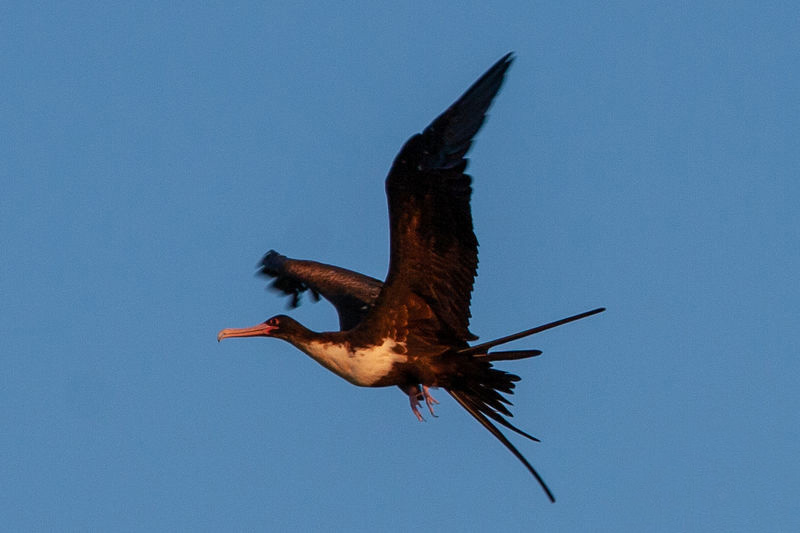bird: (211, 50, 609, 504)
